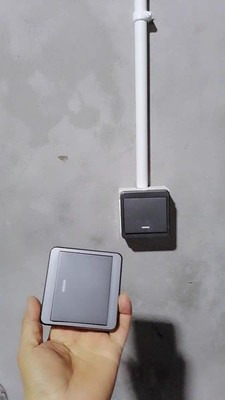switch: (58, 250, 109, 327), (121, 195, 169, 231)
